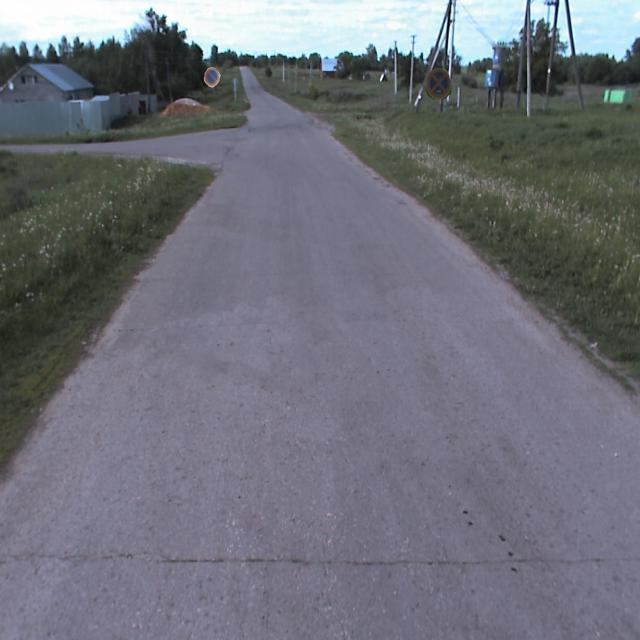road: (0, 68, 639, 639)
